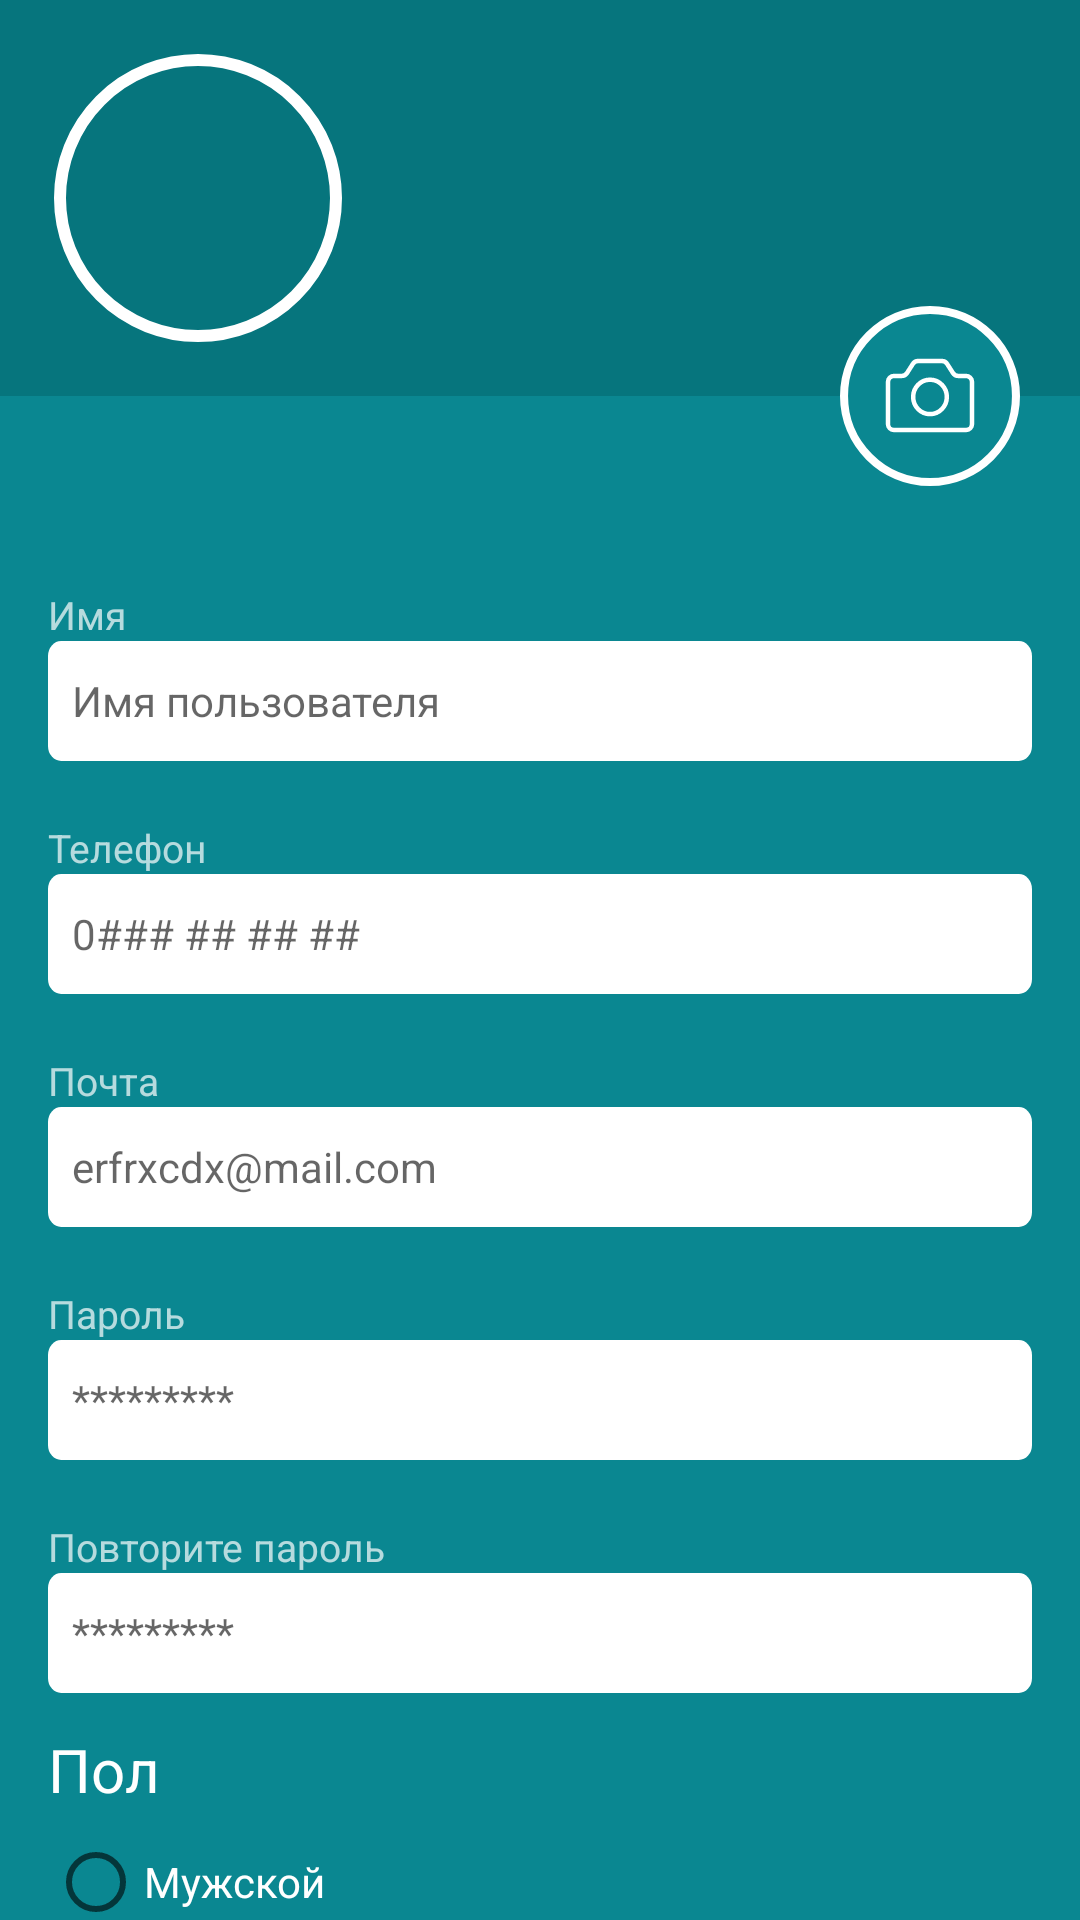

Screen size 1080 x 1920. Icon name, then its box in pixels as (x1, y1, x2, y2):
camera: (885, 358, 975, 433)
